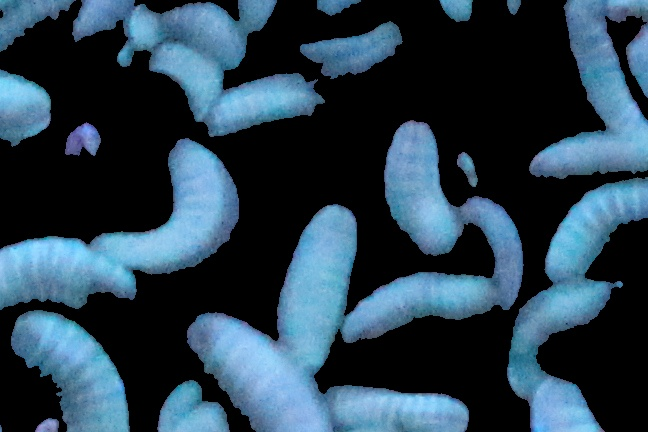larvae: (78, 135, 252, 275), (280, 186, 371, 371), (189, 306, 322, 432), (1, 229, 149, 335), (13, 308, 136, 432), (503, 280, 623, 390), (384, 110, 468, 249), (532, 181, 648, 279), (185, 65, 323, 142), (566, 3, 648, 132), (348, 268, 492, 334), (530, 114, 648, 179), (329, 380, 469, 432), (460, 185, 523, 300), (141, 38, 225, 110), (159, 3, 243, 63), (1, 63, 58, 150)
